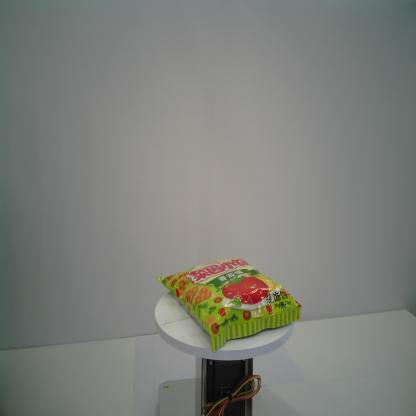Puffed Food: (157, 254, 302, 356)
